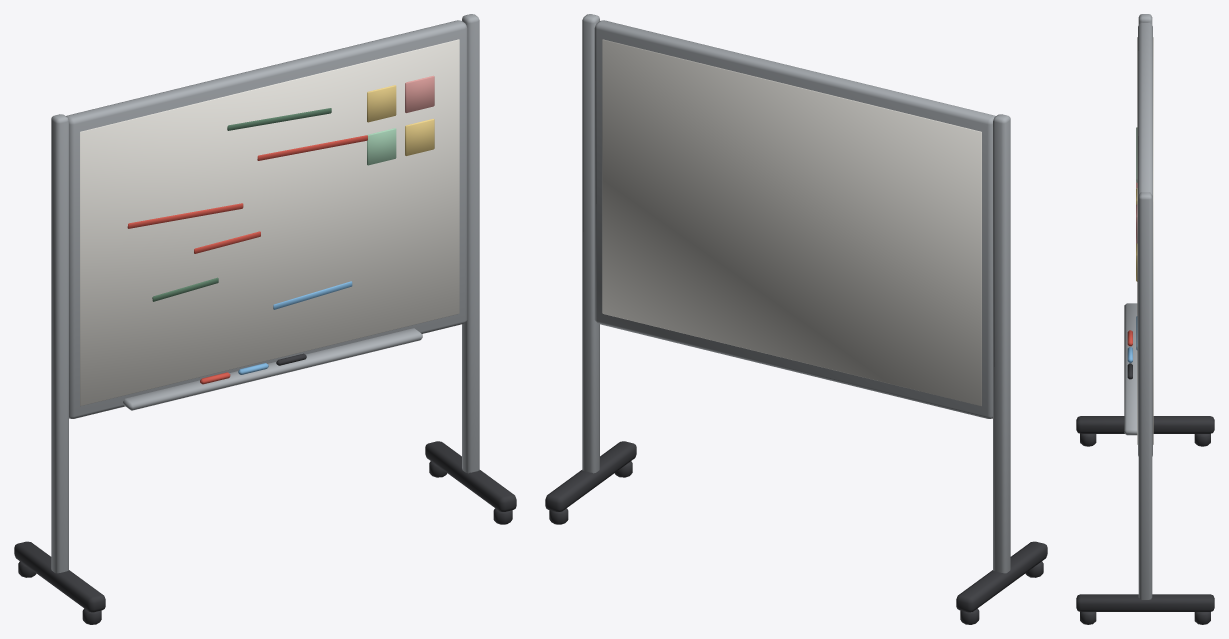
File: whiteboard.glb
3 views of the same model, side by side, from view 1: azimuth 30°, elevation 25°; view 2: azimuth 150°, elevation 25°; view 3: azimuth 270°, elevation 25° (orthographic). The views are drawn at different scales.
Parts seen in each view (by area): view 1: whiteboard; view 2: whiteboard; view 3: whiteboard.
Boxes of the visible parts, x1,y1,x2,y2 form: whiteboard: (14,14,516,624); whiteboard: (545,14,1047,624); whiteboard: (1076,14,1214,624).
Size of the model in its own units: 1.46 by 1.57 by 0.46.
1 material, 1 textured.
